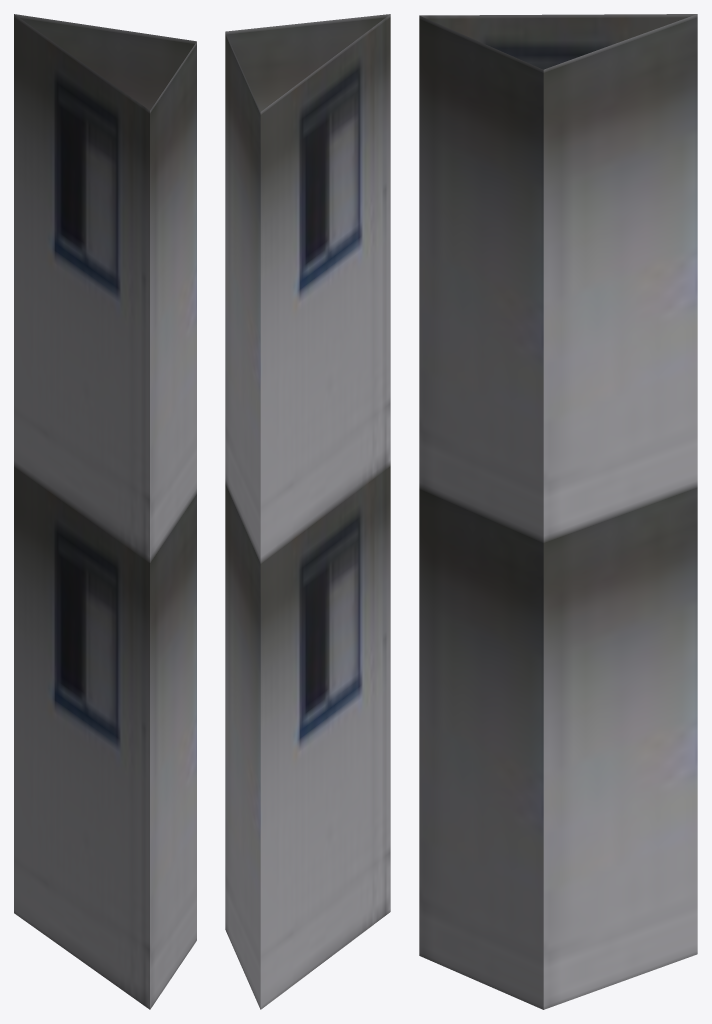
File: ResTex__4224.fbx
The picture shows the model from 3 angles, left to right: view 1: azimuth 30°, elevation 25°; view 2: azimuth 150°, elevation 25°; view 3: azimuth 270°, elevation 25°; orthographic projection. The views are drawn at different scales.
Visible parts, largest first — view 1: CityEngineMaterial_9_m; view 2: CityEngineMaterial_9_m; view 3: CityEngineMaterial_9_m.
Part boxes in pixels (left/top/right/bottom): CityEngineMaterial_9_m: left=14, top=14, right=196, bottom=1009; CityEngineMaterial_9_m: left=225, top=14, right=390, bottom=1009; CityEngineMaterial_9_m: left=419, top=14, right=697, bottom=1009.
Bounding box in the file's own units: 0.7627 × 6 × 1.61.
1 material, 1 textured.
